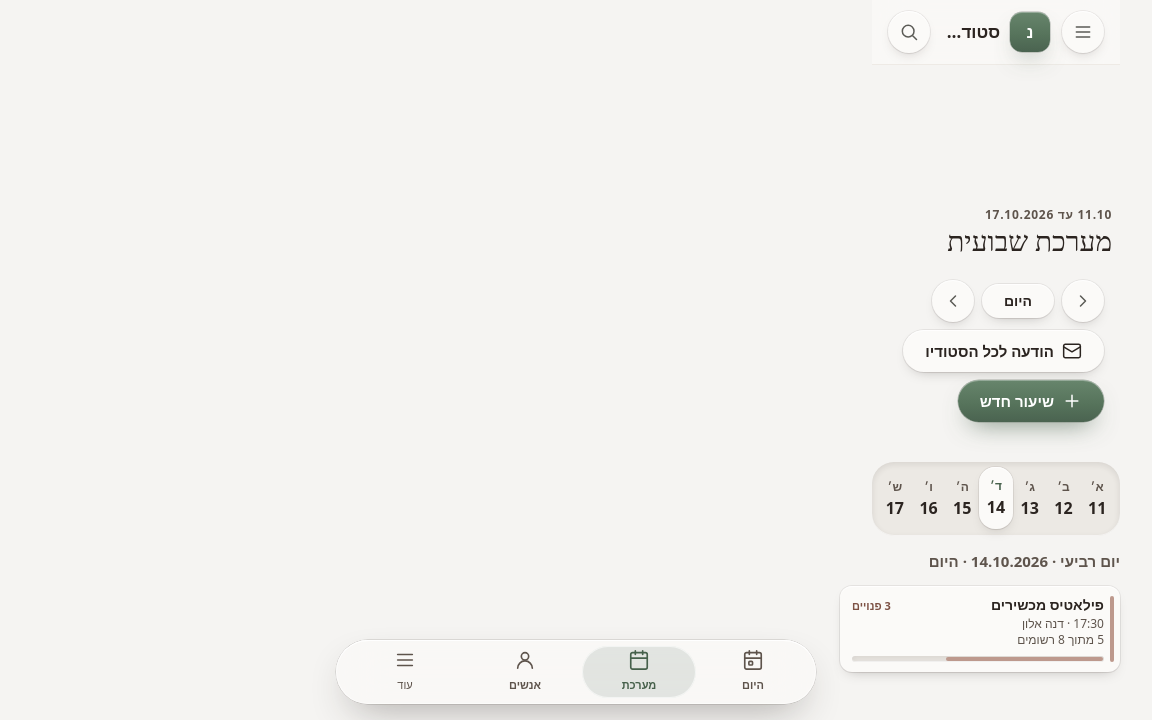
Test: the weekly timetable on a phone (D15) › shows one day at a time under a strip of the week's days, today first
The image size is (1152, 720).
(page scrolled)
Expected: the heading "יום רביעי · 14.10.2026 · היום" is shown, [929, 551, 1120, 571]
Expected: the link "פילאטיס מכשירים 3 פנויים 17:30 · דנה אלון5 מתוך 8 רשומים" is shown, [840, 586, 1120, 672]
Step 1. Click the button named "15 באוקטובר" → (962, 499), box [945, 468, 979, 530]
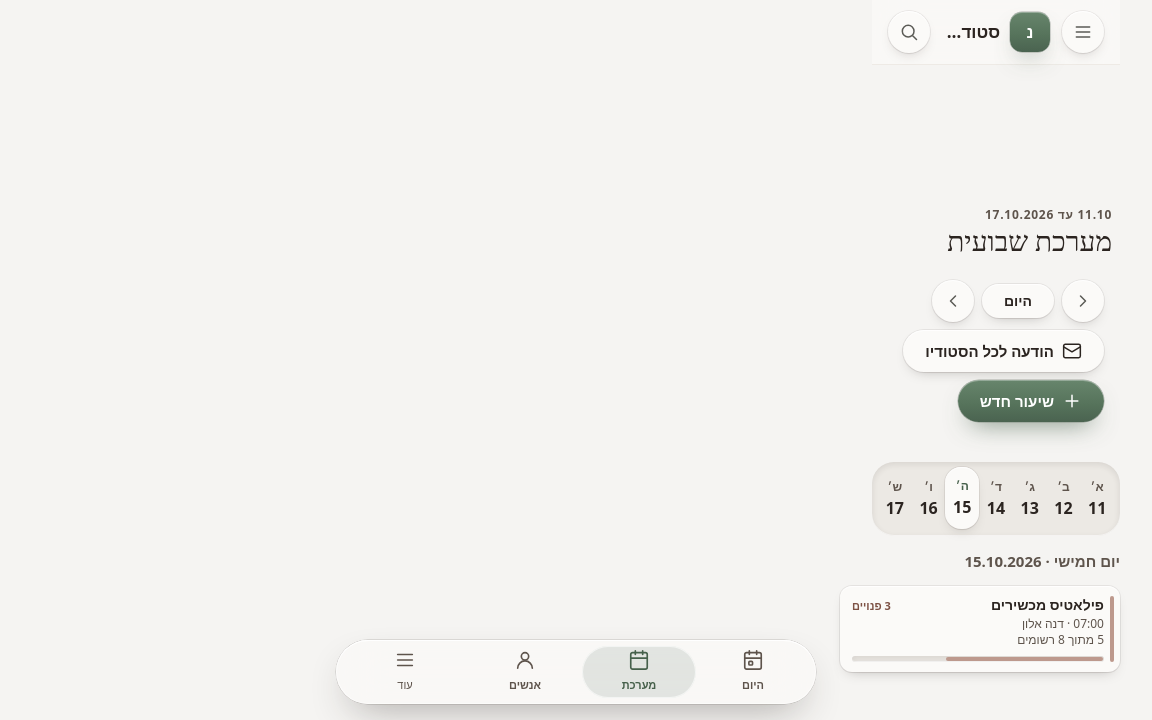
Now the heading "יום חמישי · 15.10.2026" is shown, box [964, 551, 1120, 571]
Now the link "פילאטיס מכשירים 3 פנויים 07:00 · דנה אלון5 מתוך 8 רשומים" is shown, box [840, 586, 1120, 672]
Step 2. Click the button named "16 באוקטובר" → (929, 499), box [912, 468, 945, 530]
(page scrolled)
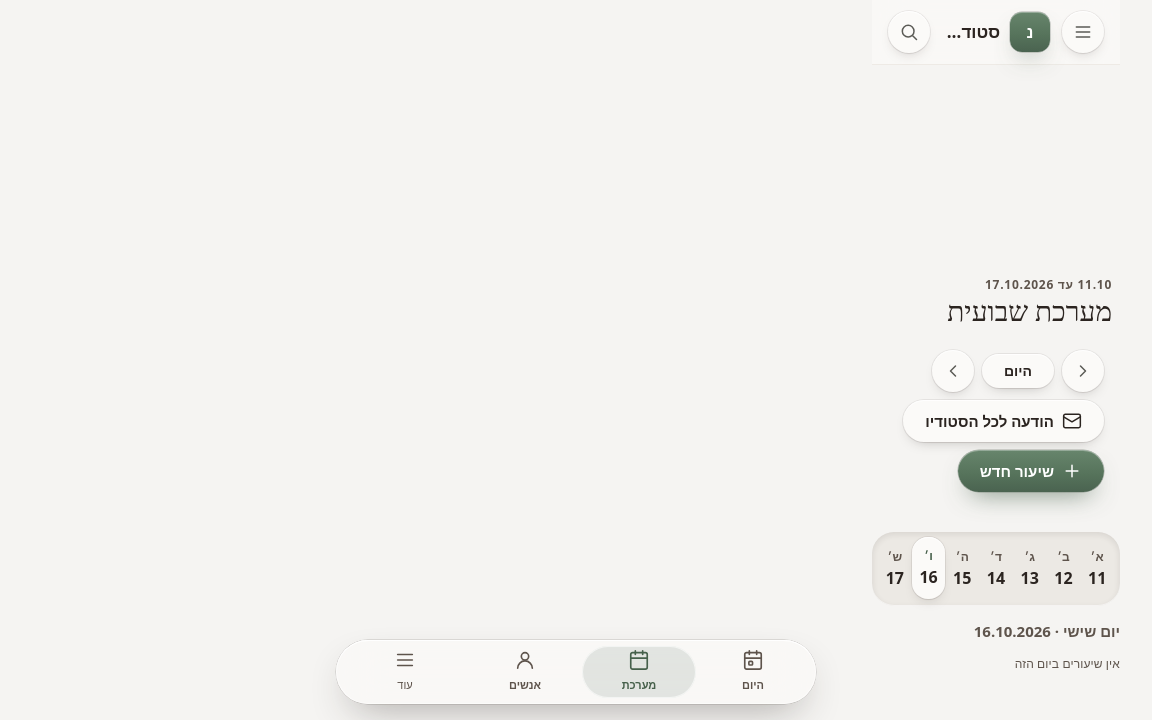
Now the text "אין שיעורים ביום הזה" is shown, box [1015, 655, 1120, 672]
